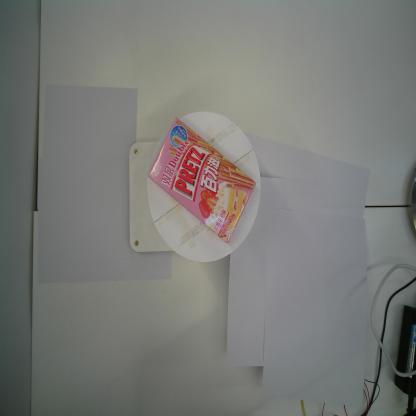Dessert: (148, 116, 256, 244)
